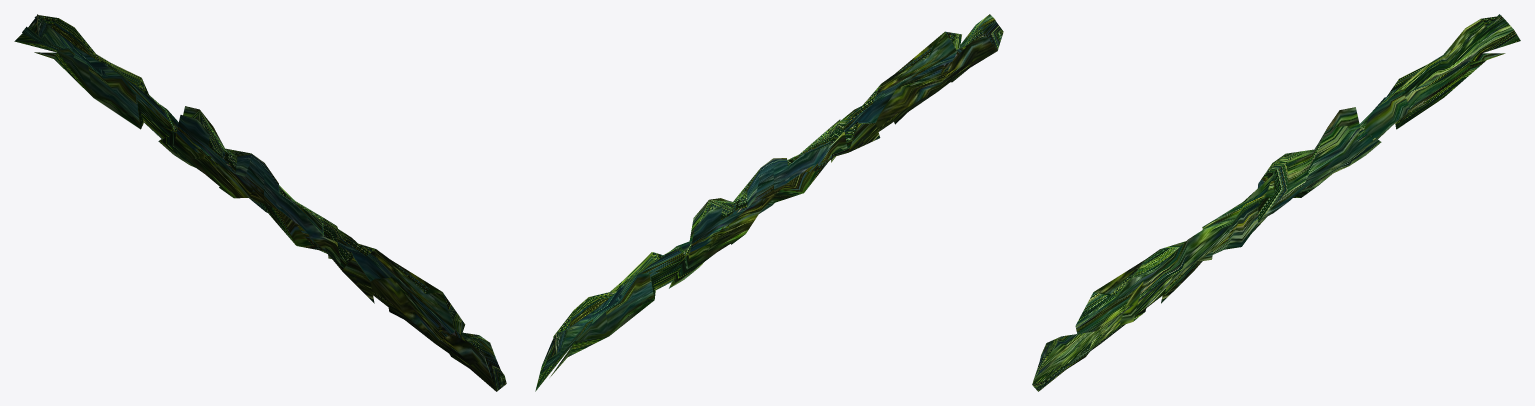
The picture shows the model from 3 angles, left to right: view 1: azimuth 30°, elevation 25°; view 2: azimuth 150°, elevation 25°; view 3: azimuth 330°, elevation 25°; orthographic projection. The views are drawn at different scales.
Visible parts, largest first — view 1: algae_cube_Cube; view 2: algae_cube_Cube; view 3: algae_cube_Cube.
Part boxes in pixels (x1=…): algae_cube_Cube: x1=14, y1=14, x2=506, y2=391; algae_cube_Cube: x1=535, y1=14, x2=1003, y2=391; algae_cube_Cube: x1=1032, y1=14, x2=1520, y2=391.
Bounding box in the file's own units: 0.0129 × 0.2549 × 3.45.
